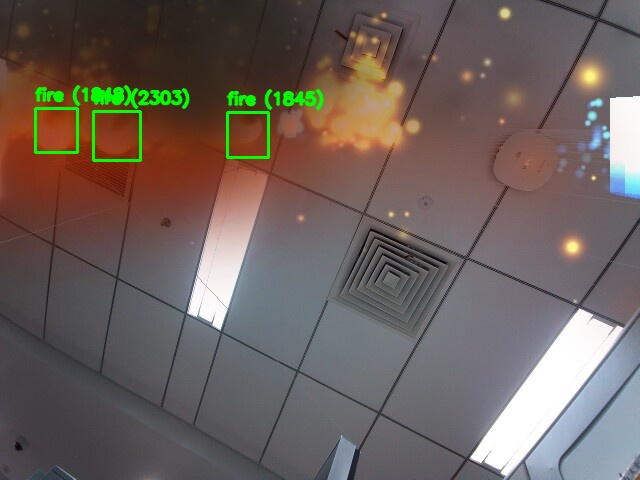fire: (93, 111, 140, 160), (35, 108, 77, 152), (227, 112, 268, 157)
